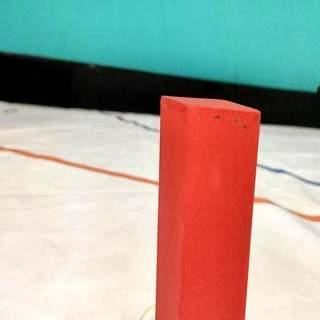redbox: (158, 98, 248, 320)
